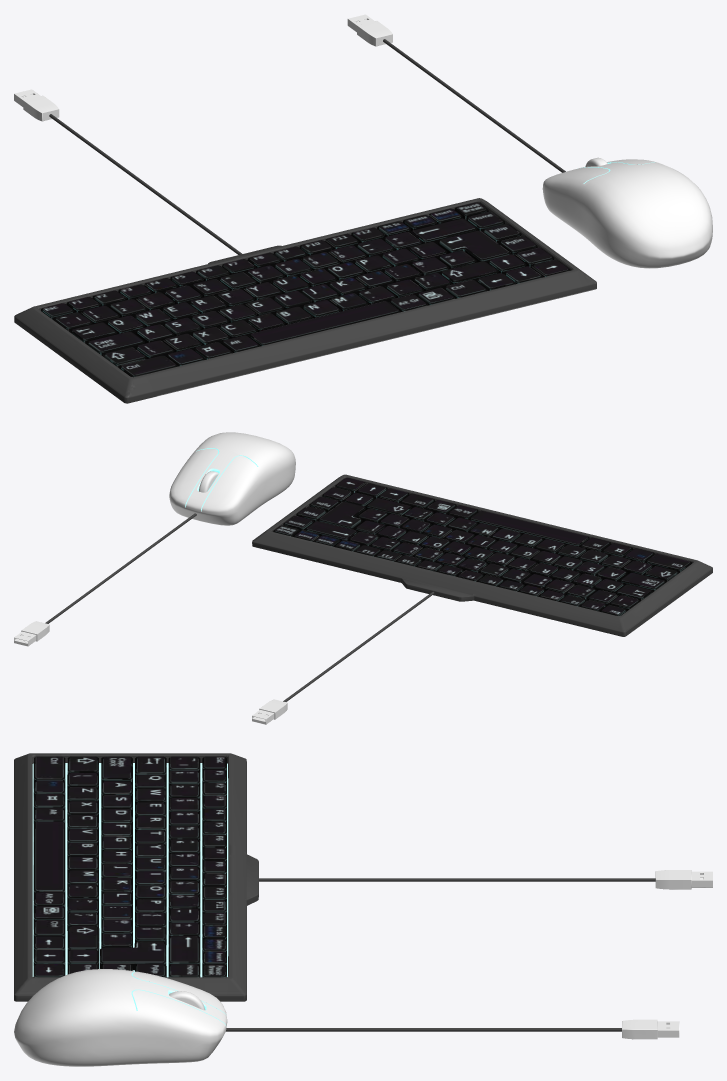
Rendered from keyboard-mouse.glb.
3 renders of one model, top to bottom at view 1: azimuth 30°, elevation 25°; view 2: azimuth 150°, elevation 25°; view 3: azimuth 270°, elevation 25°, orthographic. The views are drawn at different scales.
Visible parts, largest first — view 1: Keyboard Keys_Keyboard Keys_0, Keyboard Frame_Keyboard Frame_0, Mouse Body_Mouse Body_0, Keyboard Frame_LED_0, Keyboard USB Cable_USB Cable_0, Keyboard USB Connector_USB Connector_0; view 2: Keyboard Keys_Keyboard Keys_0, Keyboard Frame_Keyboard Frame_0, Mouse Body_Mouse Body_0, Keyboard Frame_LED_0, Keyboard USB Cable_USB Cable_0, Keyboard USB Connector_USB Connector_0; view 3: Keyboard Keys_Keyboard Keys_0, Mouse Body_Mouse Body_0, Keyboard Frame_Keyboard Frame_0, Keyboard Frame_LED_0, Keyboard USB Cable_USB Cable_0, Keyboard USB Connector_USB Connector_0.
Part boxes in pixels (x1,y1,x2,y2): Keyboard Keys_Keyboard Keys_0: (41, 202, 570, 377); Keyboard Frame_Keyboard Frame_0: (14, 198, 596, 403); Mouse Body_Mouse Body_0: (542, 159, 712, 268); Keyboard Frame_LED_0: (43, 162, 654, 369); Keyboard USB Cable_USB Cable_0: (49, 39, 565, 254); Keyboard USB Connector_USB Connector_0: (14, 14, 392, 121); Keyboard Keys_Keyboard Keys_0: (273, 478, 691, 615); Keyboard Frame_Keyboard Frame_0: (252, 474, 712, 636); Mouse Body_Mouse Body_0: (169, 432, 295, 525); Keyboard Frame_LED_0: (185, 448, 681, 614); Keyboard USB Cable_USB Cable_0: (45, 513, 434, 701); Keyboard USB Connector_USB Connector_0: (14, 621, 287, 724); Keyboard Keys_Keyboard Keys_0: (33, 756, 226, 977); Mouse Body_Mouse Body_0: (14, 969, 227, 1066); Keyboard Frame_Keyboard Frame_0: (14, 753, 258, 1001); Keyboard Frame_LED_0: (32, 758, 228, 1025); Keyboard USB Cable_USB Cable_0: (226, 878, 655, 1031); Keyboard USB Connector_USB Connector_0: (622, 870, 712, 1039).
Bounding box in the file's own units: 0.4053 × 0.0398 × 0.3911.
7 materials, 2 textured.
